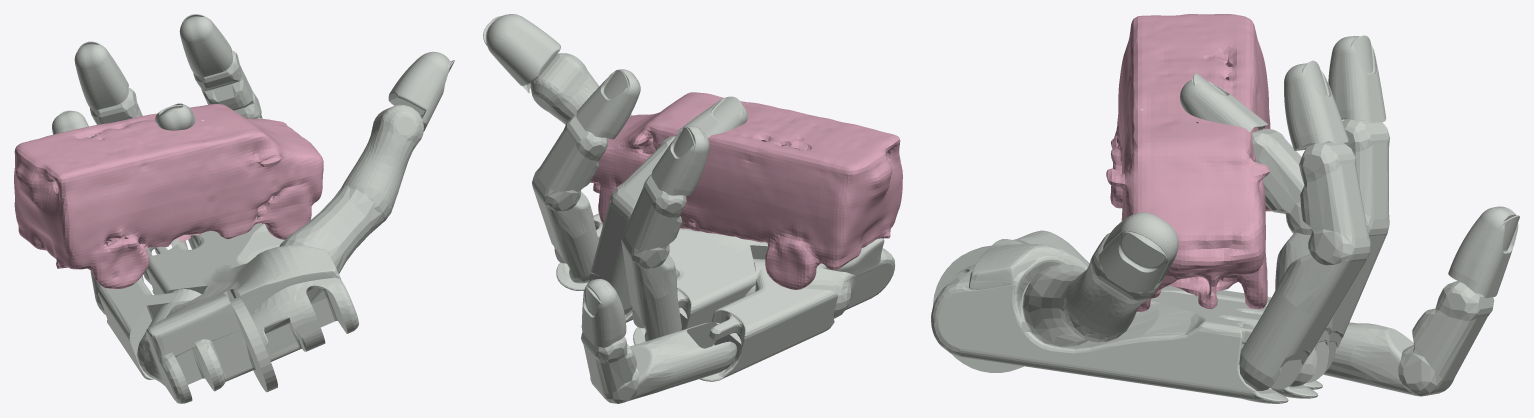
3 views of the same model, side by side, from view 1: azimuth 30°, elevation 25°; view 2: azimuth 150°, elevation 25°; view 3: azimuth 270°, elevation 25° (orthographic). The views are drawn at different scales.
Parts seen in each view (by area): view 1: hand, world; view 2: hand, world; view 3: hand, world.
Part boxes in pixels (x1,y1,x2,y2): hand: (52,14,454,403); world: (14,104,323,288); hand: (483,14,895,403); world: (590,92,902,289); hand: (931,35,1519,403); world: (1106,14,1271,311).
Size of the model in its own units: 0.187 by 0.1239 by 0.1808.
